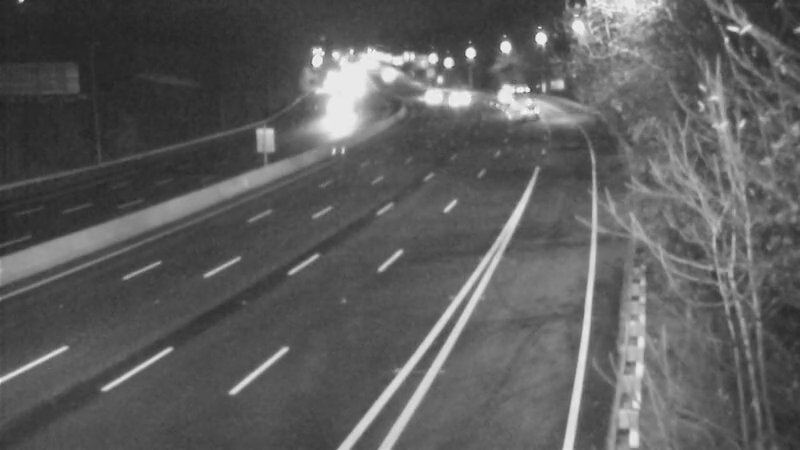vehicle: (491, 77, 541, 127), (405, 68, 455, 118), (433, 72, 483, 122), (505, 87, 555, 137)
